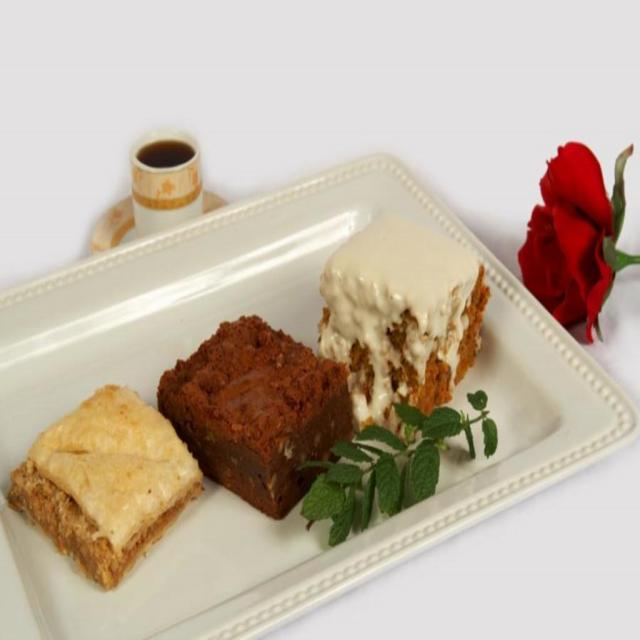Tea: (138, 136, 195, 168)
